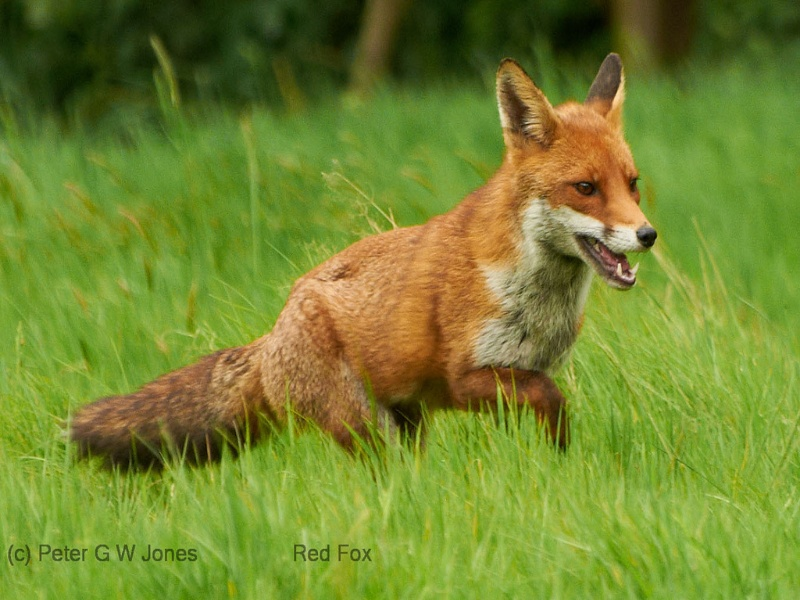fox: (56, 51, 661, 516)
